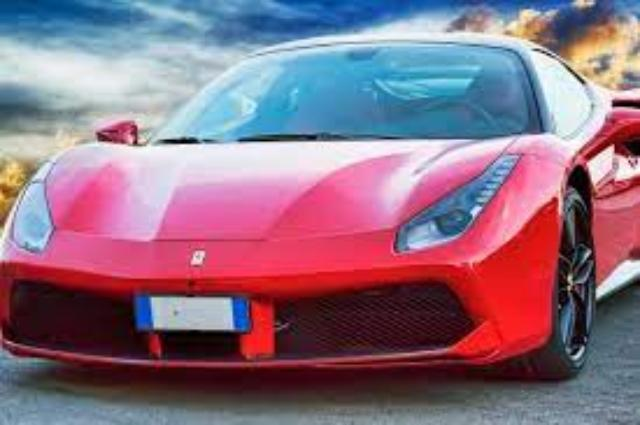ferrari: (0, 31, 640, 382)
